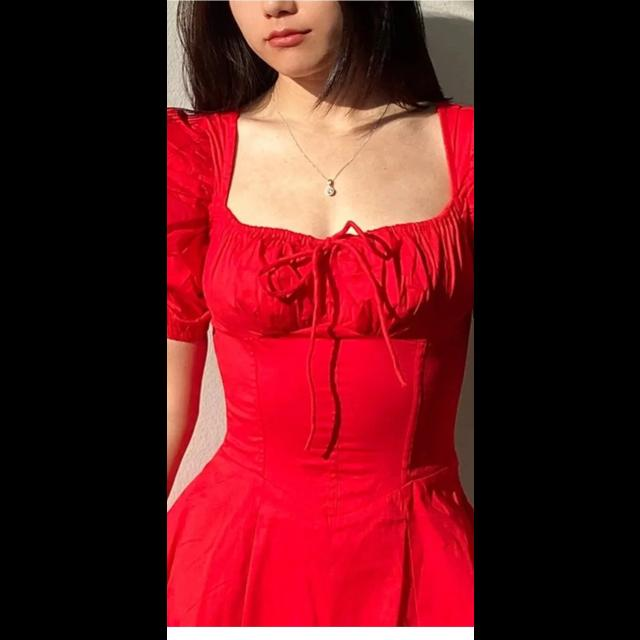dress: (167, 110, 473, 628)
